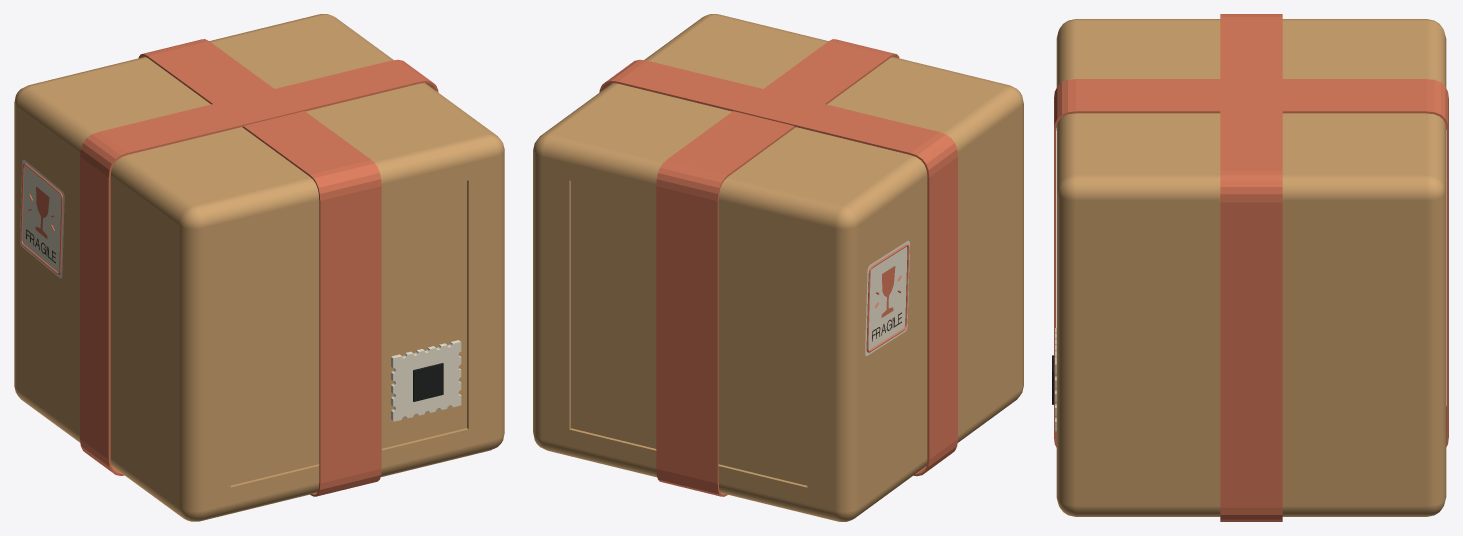
Rendered from play-parcel-small-coral.glb.
3 renders of one model, left to right at view 1: azimuth 30°, elevation 25°; view 2: azimuth 150°, elevation 25°; view 3: azimuth 270°, elevation 25°, orthographic. The views are drawn at different scales.
Parts seen in each view (by area): view 1: Parcel_Carton, Parcel_Tape_Continuous_Front_Back, Parcel_Tape_Continuous_Left_Right, Parcel_Paper_Label, Parcel_Care_Fragile_Paper, Parcel_Label_Square, Parcel_Care_Fragile_Border; view 2: Parcel_Carton, Parcel_Tape_Continuous_Front_Back, Parcel_Tape_Continuous_Left_Right, Parcel_Care_Fragile_Paper, Parcel_Care_Fragile_Border; view 3: Parcel_Carton, Parcel_Tape_Continuous_Left_Right, Parcel_Tape_Continuous_Front_Back.
Part boxes in pixels (x1,y1,x2,y2): Parcel_Carton: (14, 14, 504, 521); Parcel_Tape_Continuous_Front_Back: (138, 39, 381, 496); Parcel_Tape_Continuous_Left_Right: (80, 59, 438, 475); Parcel_Paper_Label: (391, 340, 461, 421); Parcel_Care_Fragile_Paper: (20, 159, 64, 278); Parcel_Label_Square: (413, 363, 443, 401); Parcel_Care_Fragile_Border: (20, 163, 62, 274); Parcel_Carton: (533, 14, 1023, 521); Parcel_Tape_Continuous_Front_Back: (656, 39, 899, 496); Parcel_Tape_Continuous_Left_Right: (599, 59, 957, 476); Parcel_Care_Fragile_Paper: (865, 240, 909, 355); Parcel_Care_Fragile_Border: (866, 244, 909, 352); Parcel_Carton: (1056, 19, 1446, 516); Parcel_Tape_Continuous_Left_Right: (1220, 14, 1282, 521); Parcel_Tape_Continuous_Front_Back: (1054, 79, 1448, 447).
Bounding box in the file's own units: 0.148 × 0.138 × 0.1427.
